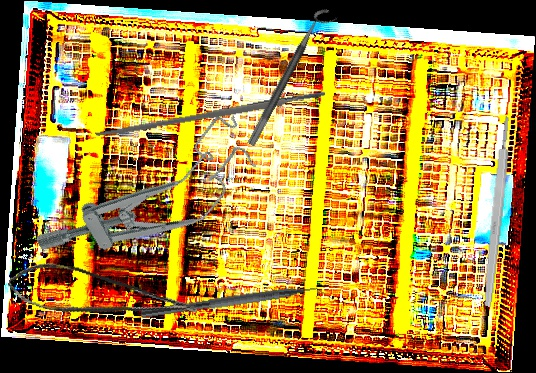Chopper: (139, 278, 336, 332)
Fixation Ring: (246, 5, 339, 153)
Micro Scissor: (4, 250, 200, 349)
Scalpel Handle: (94, 89, 327, 141), (482, 115, 513, 308)
Speculum: (26, 108, 271, 296)
